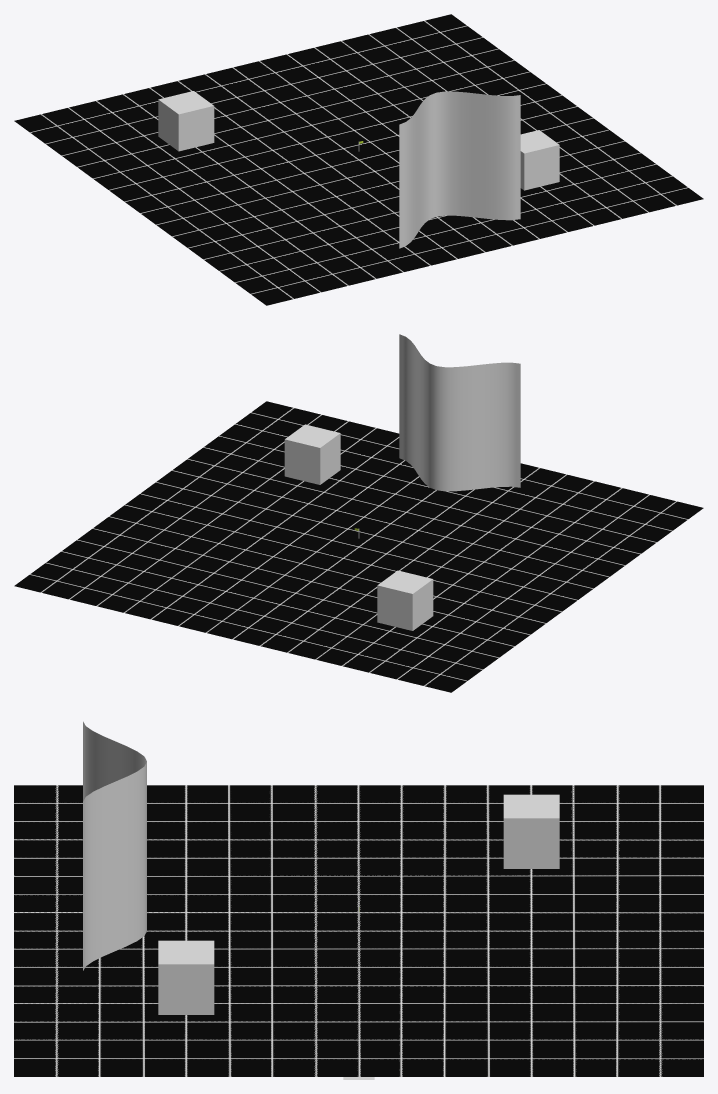
Rendered from SubdividedPlane.glb.
The picture shows the model from 3 angles, top to bottom: view 1: azimuth 30°, elevation 25°; view 2: azimuth 150°, elevation 25°; view 3: azimuth 270°, elevation 25°; orthographic projection. The views are drawn at different scales.
Parts seen in each view (by area): view 1: Plane, Plane.001, SO_FLAG_DELIVERY_POINT_TEAM0_INCLUDEMESH, SO_FLAG_DELIVERY_POINT_TEAM1_INCLUDEMESH; view 2: Plane, Plane.001, SO_FLAG_DELIVERY_POINT_TEAM0_INCLUDEMESH, SO_FLAG_DELIVERY_POINT_TEAM1_INCLUDEMESH; view 3: Plane, Plane.001, SO_FLAG_DELIVERY_POINT_TEAM0_INCLUDEMESH, SO_FLAG_DELIVERY_POINT_TEAM1_INCLUDEMESH.
Part boxes in pixels (left/top/right/bottom): Plane: left=14, top=14, right=703, bottom=305; Plane.001: left=399, top=91, right=520, bottom=248; SO_FLAG_DELIVERY_POINT_TEAM0_INCLUDEMESH: left=158, top=91, right=214, bottom=151; SO_FLAG_DELIVERY_POINT_TEAM1_INCLUDEMESH: left=520, top=130, right=559, bottom=190; Plane: left=14, top=401, right=703, bottom=692; Plane.001: left=399, top=334, right=520, bottom=491; SO_FLAG_DELIVERY_POINT_TEAM0_INCLUDEMESH: left=377, top=570, right=433, bottom=630; SO_FLAG_DELIVERY_POINT_TEAM1_INCLUDEMESH: left=284, top=424, right=340, bottom=484; Plane: left=14, top=785, right=703, bottom=1076; Plane.001: left=83, top=721, right=146, bottom=970; SO_FLAG_DELIVERY_POINT_TEAM0_INCLUDEMESH: left=503, top=794, right=559, bottom=868; SO_FLAG_DELIVERY_POINT_TEAM1_INCLUDEMESH: left=158, top=940, right=214, bottom=1014.
Size of the model in its own units: 43.97 by 21.93 by 43.97.
5 materials, 1 textured.
